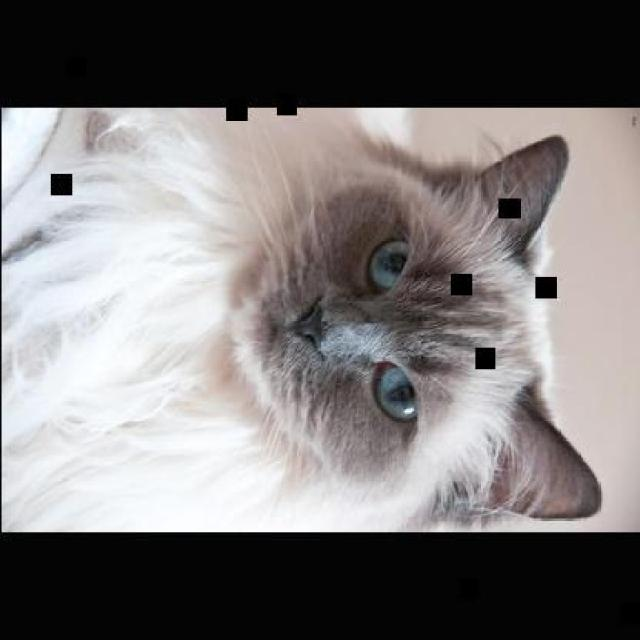unauthorized: (0, 106, 602, 531)
